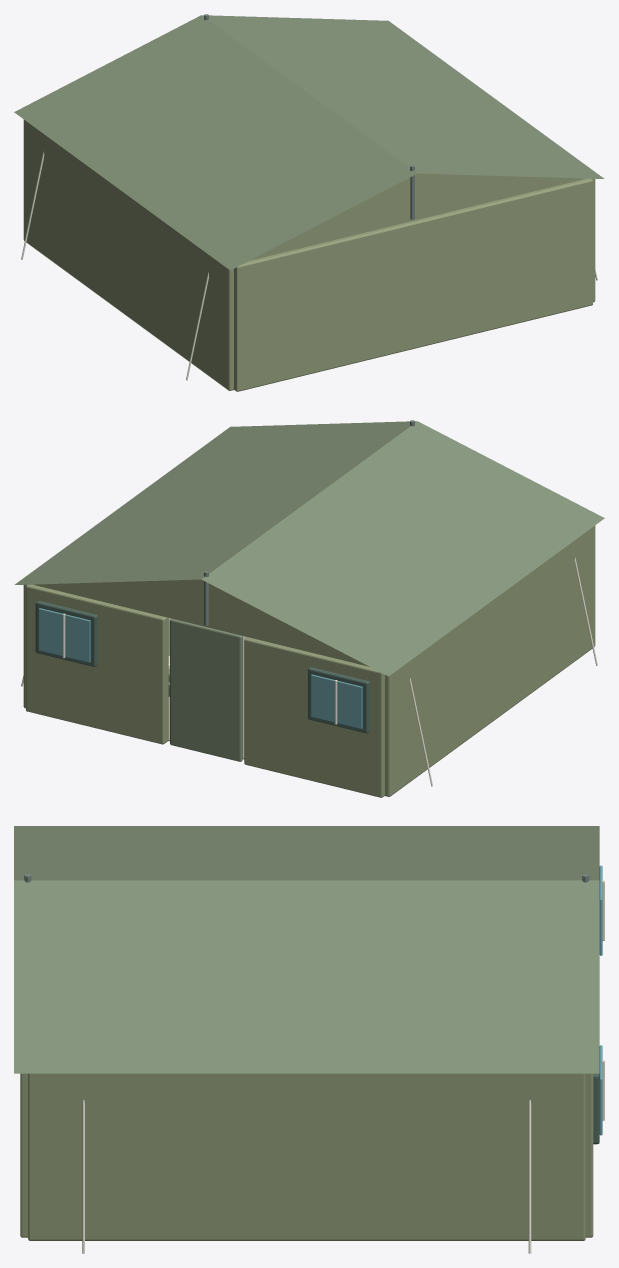
The model's file is military-tent.glb.
The picture shows the model from 3 angles, top to bottom: view 1: azimuth 30°, elevation 25°; view 2: azimuth 150°, elevation 25°; view 3: azimuth 270°, elevation 25°; orthographic projection. The views are drawn at different scales.
Parts seen in each view (by area): view 1: shell-wall, roof-cloth, shell-white; view 2: roof-cloth, shell-wall, entrance flap, shell-glass, shell-trim, shell-white; view 3: roof-cloth, shell-wall, shell-white, shell-glass.
Boxes of the visible parts, <box> form: shell-wall: <box>23,119,595,391</box>; roof-cloth: <box>14,15,604,270</box>; shell-white: <box>21,151,597,380</box>; roof-cloth: <box>14,421,604,676</box>; shell-wall: <box>23,525,595,797</box>; entrance flap: <box>170,618,242,761</box>; shell-glass: <box>39,608,362,728</box>; shell-trim: <box>35,600,369,733</box>; shell-white: <box>21,557,597,786</box>; roof-cloth: <box>14,826,599,1073</box>; shell-wall: <box>20,1073,593,1240</box>; shell-white: <box>82,880,604,1253</box>; shell-glass: <box>599,865,602,1135</box>.
Size of the model in its own units: 9.24 by 3.89 by 8.48.
